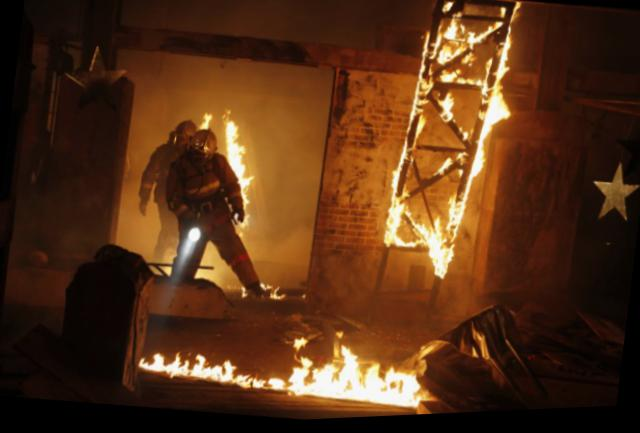fire: (373, 0, 524, 279), (141, 311, 430, 419), (178, 108, 262, 238)
